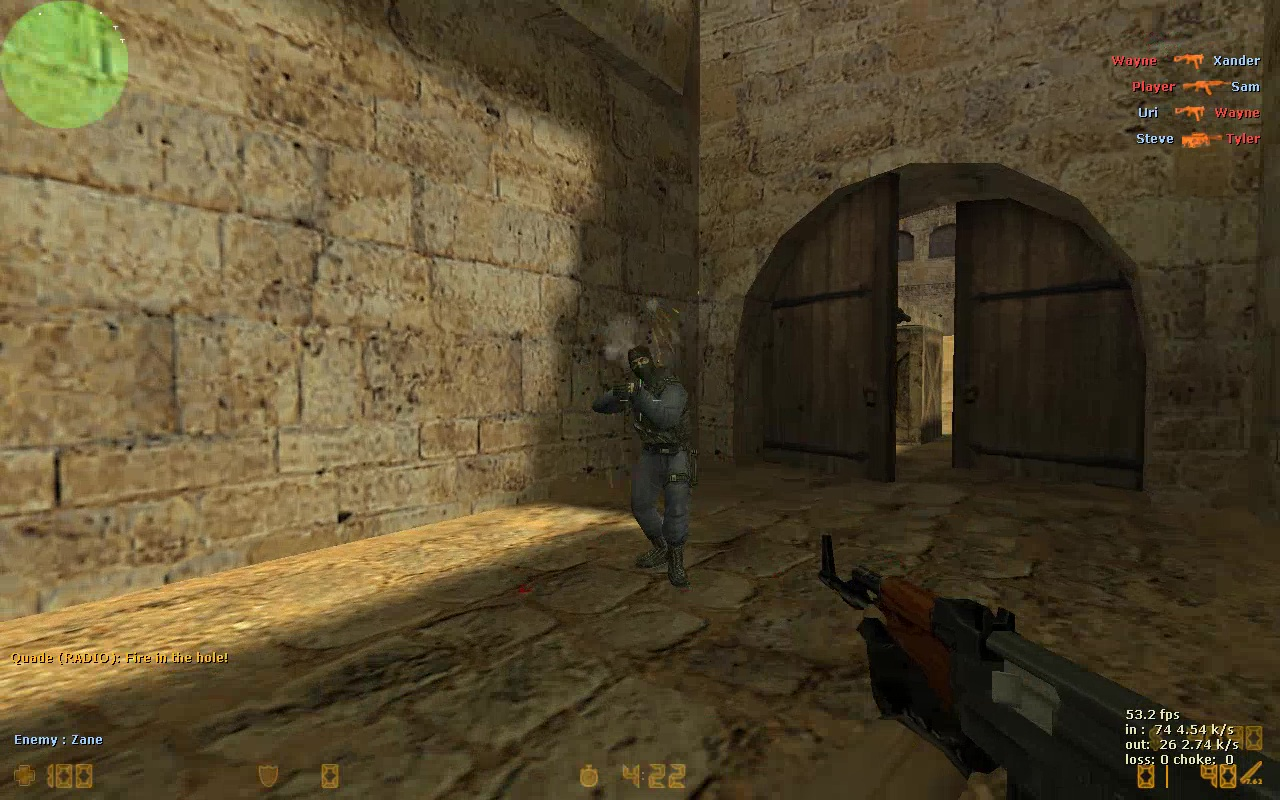ct: (590, 346, 698, 589)
